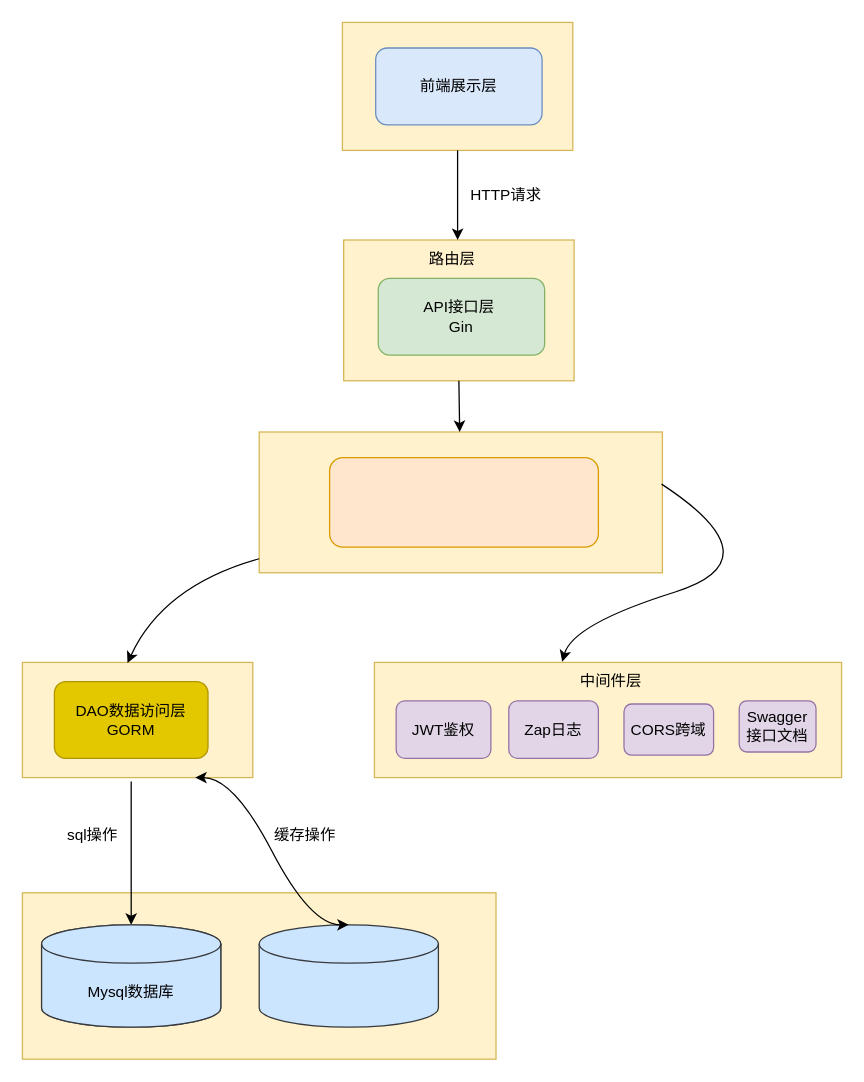
Some shapes in this 864 by 1082 pixel diagram are drawn without their labels. The centre of each missing label's shape, as x and y in pixels:
Redis缓存: [348,975]
Service层 文章、用户、标签: [463,501]
